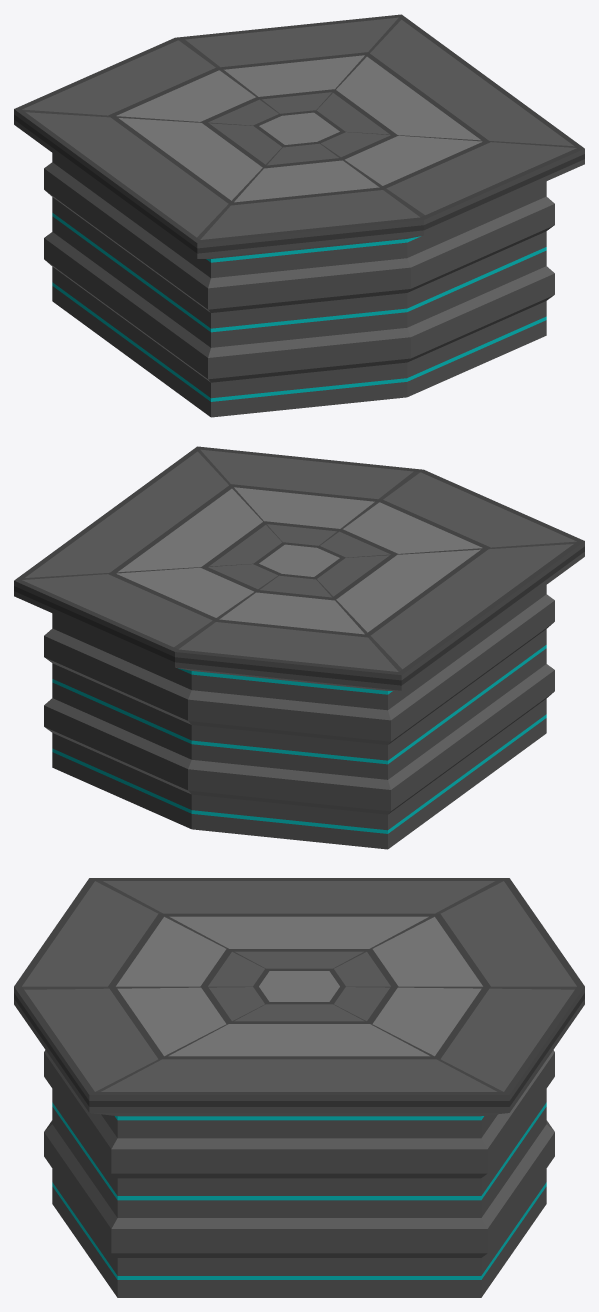
Rendered from Factory_Platform_Small.fbx.
3 views of the same model, one above another, from view 1: azimuth 30°, elevation 25°; view 2: azimuth 150°, elevation 25°; view 3: azimuth 270°, elevation 25° (orthographic). The views are drawn at different scales.
Visible parts, largest first — view 1: Factory Platform Small; view 2: Factory Platform Small; view 3: Factory Platform Small.
Part boxes in pixels (x1=…): Factory Platform Small: x1=14, y1=14, x2=584, y2=417; Factory Platform Small: x1=14, y1=446, x2=584, y2=849; Factory Platform Small: x1=14, y1=878, x2=584, y2=1297.
Bounding box in the file's own units: 4384 × 2050 × 4877.
